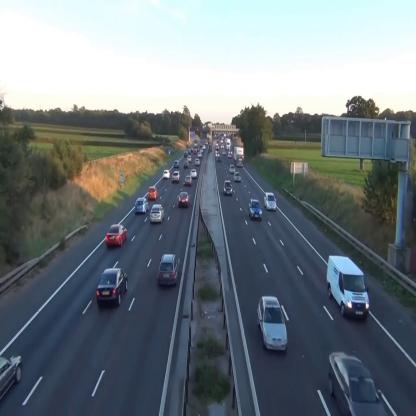car: (328, 351, 387, 416), (258, 296, 288, 353), (97, 268, 128, 312), (0, 351, 23, 403), (156, 252, 180, 288), (106, 224, 127, 248), (249, 198, 263, 221), (150, 203, 165, 224), (134, 197, 150, 215), (264, 192, 277, 212), (178, 192, 191, 208), (147, 185, 159, 201), (224, 180, 233, 194), (172, 171, 181, 183), (185, 175, 193, 187), (228, 164, 236, 176), (162, 170, 171, 180), (234, 171, 241, 183), (190, 168, 198, 178), (174, 160, 180, 168), (194, 158, 199, 166), (184, 161, 188, 168)
lorry: (326, 254, 370, 323), (234, 146, 245, 168)
